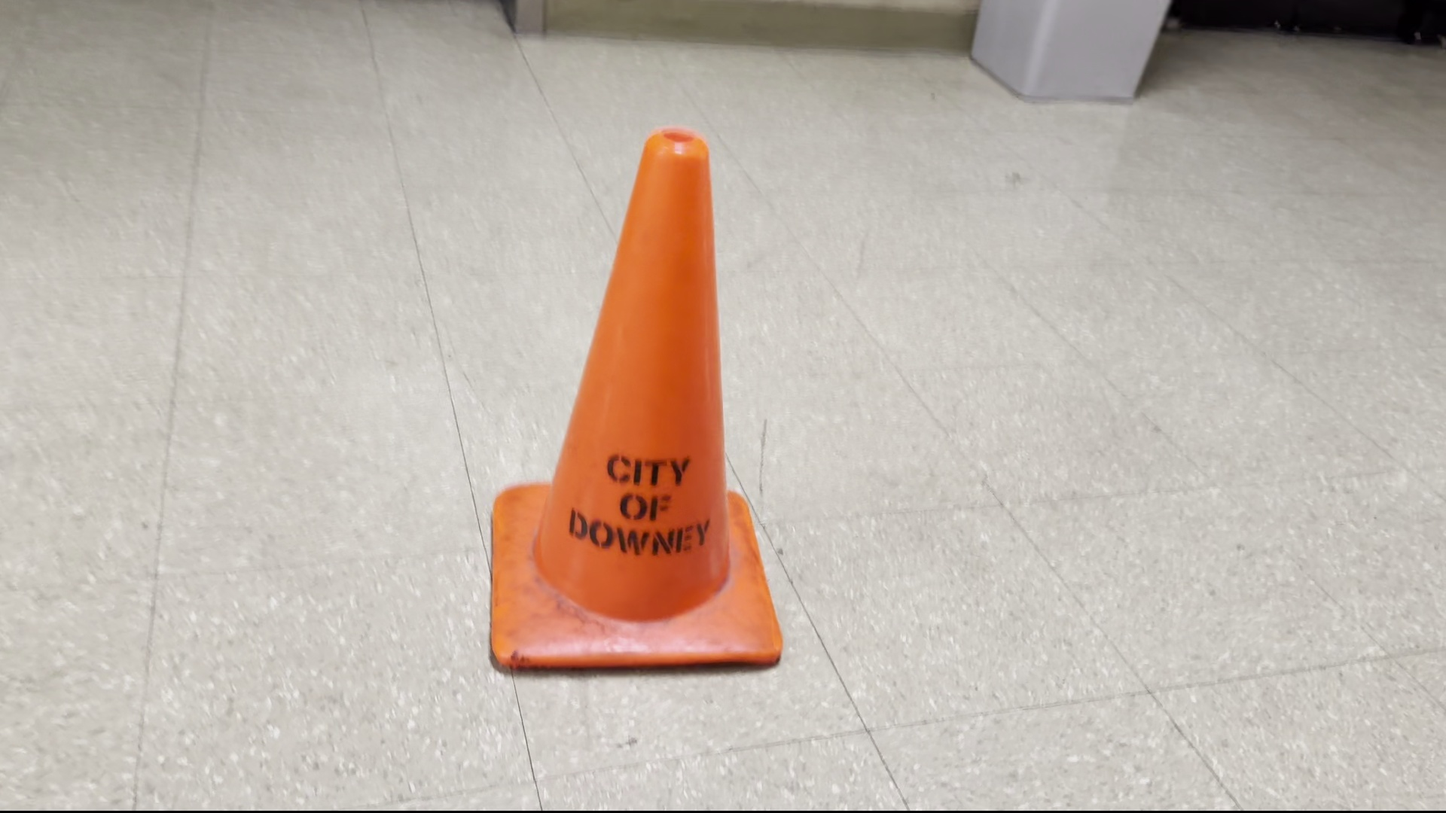traffic_cone: (489, 126, 783, 672)
